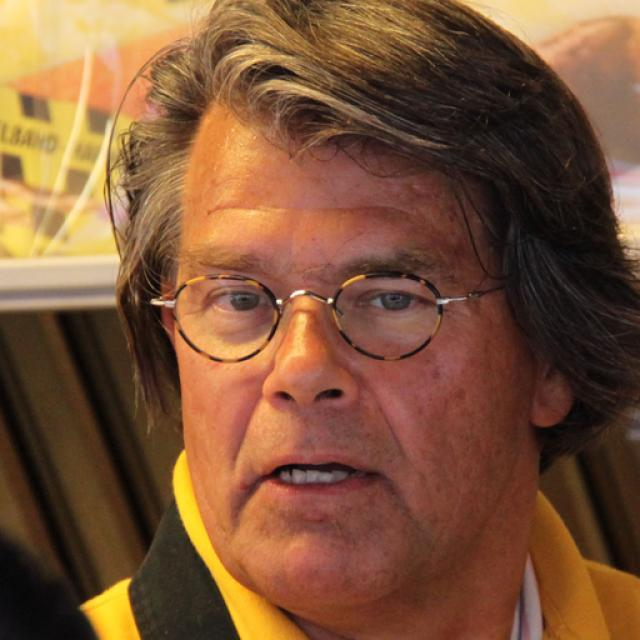sad: (172, 141, 534, 609)
